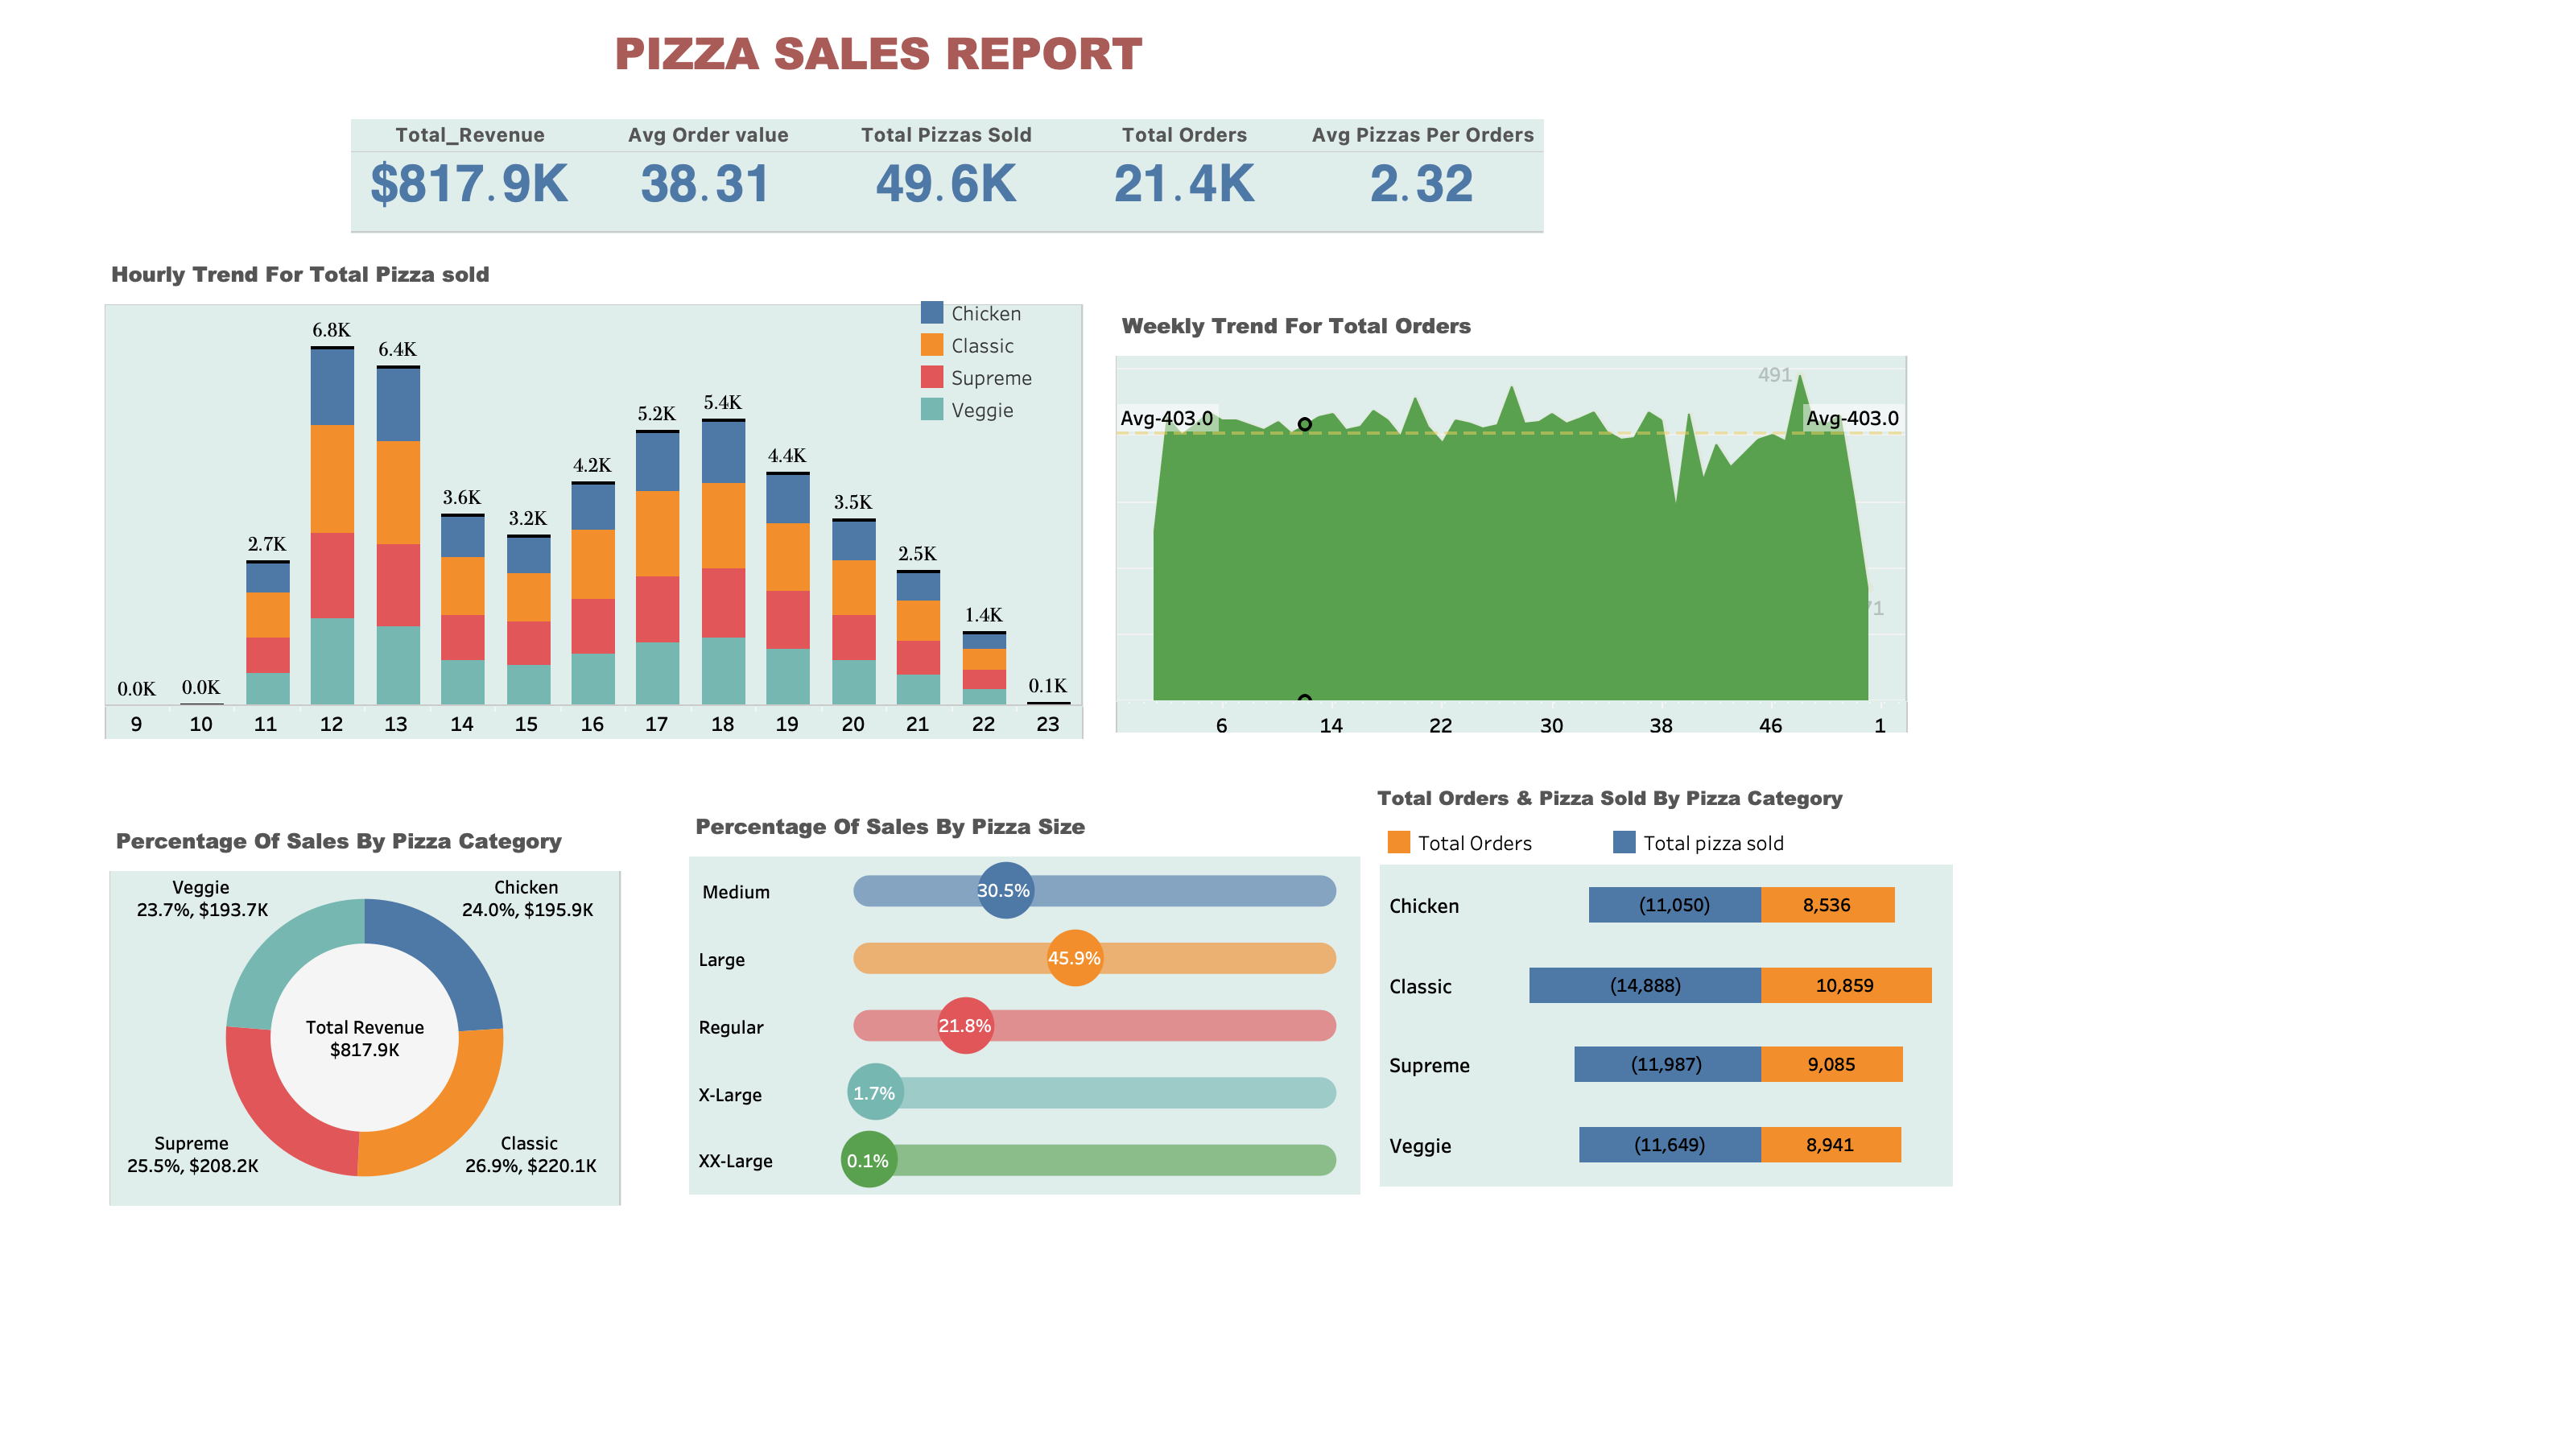

The dashboard page shown, as its layout file describes it:
{"tool":"tableau","page":{"name":"Dashboard 1","canvas":[1600,900],"ordinal":0},"visuals":[{"type":"text","box":[379,11,344,43]},{"type":"worksheet","title":"KPI Banner","mark":"Automatic","box":[218,74,814,88]},{"type":"worksheet","title":"Hourly Trend For Total Pizza sold","mark":"Bar","rows":["Calculation_5037774900490243","Calculation_5037774900490243"],"cols":["Calculation_5037774910980102"],"box":[65,155,608,305]},{"type":"legend","title":"Hourly Trend For Total Pizza sold","param":"[federated.09zhzoz1ykrvpn1dc4isc0xfk9ir].[none:pizza_category:nk]","box":[569,184,79,85]},{"type":"worksheet","title":"Weekly Trend For Total Orders ","mark":"Area","rows":["Calculation_5037774899892225","Calculation_5037774899892225"],"cols":["Calculation_5037774910980102"],"box":[693,187,492,269]},{"type":"text","box":[853,480,295,30]},{"type":"worksheet","title":"Percentage Of Sales By Pizza Size","mark":"Line","rows":["pizza_size"],"box":[428,498,416,244]},{"type":"worksheet","title":"Percentage Of Sales By Pizza Category","mark":"Pie","rows":["Calculation_5037776007122962","Calculation_5037776007196692"],"box":[68,507,318,242]},{"type":"legend","title":"Total orders & pizza sold by Pizza Category","param":"[federated.09zhzoz1ykrvpn1dc4isc0xfk9ir].[:Measure Names]","box":[859,513,290,22]},{"type":"worksheet","title":"Total orders & pizza sold by Pizza Category","mark":"Automatic","rows":["pizza_category"],"box":[857,537,355,199]}]}

Visuals, with their boxes in screenshot pixels (x1, y1, x2, y2), scaled from the page's 1600x900 canvas onto the 2576x1449 screenshot:
text: detection(610, 18, 1164, 87)
"KPI Banner" worksheet: detection(351, 119, 1662, 261)
"Hourly Trend For Total Pizza sold" worksheet (Bar marks): detection(105, 250, 1084, 741)
"Hourly Trend For Total Pizza sold" legend: detection(916, 296, 1043, 433)
"Weekly Trend For Total Orders " worksheet (Area marks): detection(1116, 301, 1908, 734)
text: detection(1373, 773, 1848, 821)
"Percentage Of Sales By Pizza Size" worksheet (Line marks): detection(689, 802, 1359, 1195)
"Percentage Of Sales By Pizza Category" worksheet (Pie marks): detection(109, 816, 621, 1206)
"Total orders & pizza sold by Pizza Category" legend: detection(1383, 826, 1850, 861)
"Total orders & pizza sold by Pizza Category" worksheet: detection(1380, 865, 1951, 1185)
